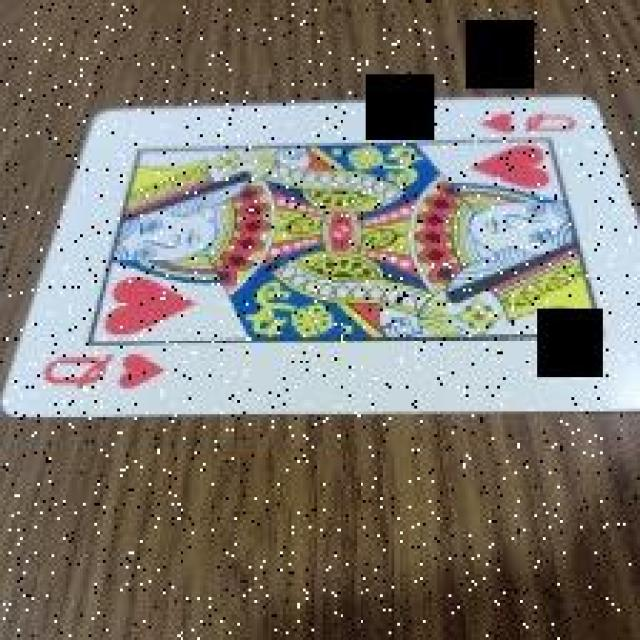Queen of hearts: (0, 86, 630, 435)
